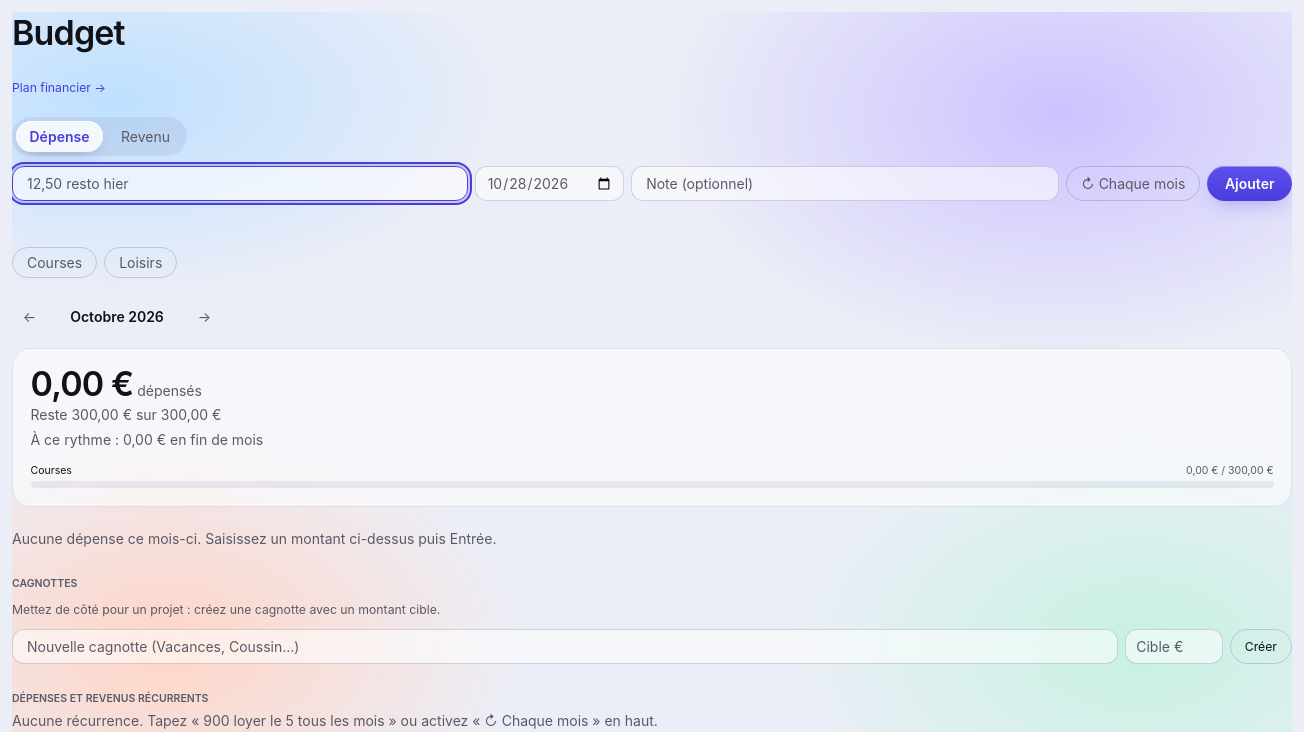
Scenario: BudgetPage › explique un échec dû à une migration manquante (PGRST204) et annule la dépense
expect the button "Courses" is shown: met, box [12, 246, 97, 278]
Type "12,50" into the field named "Montant en euros". click: (240, 184)
box: [12, 166, 468, 201]
Then press Enter
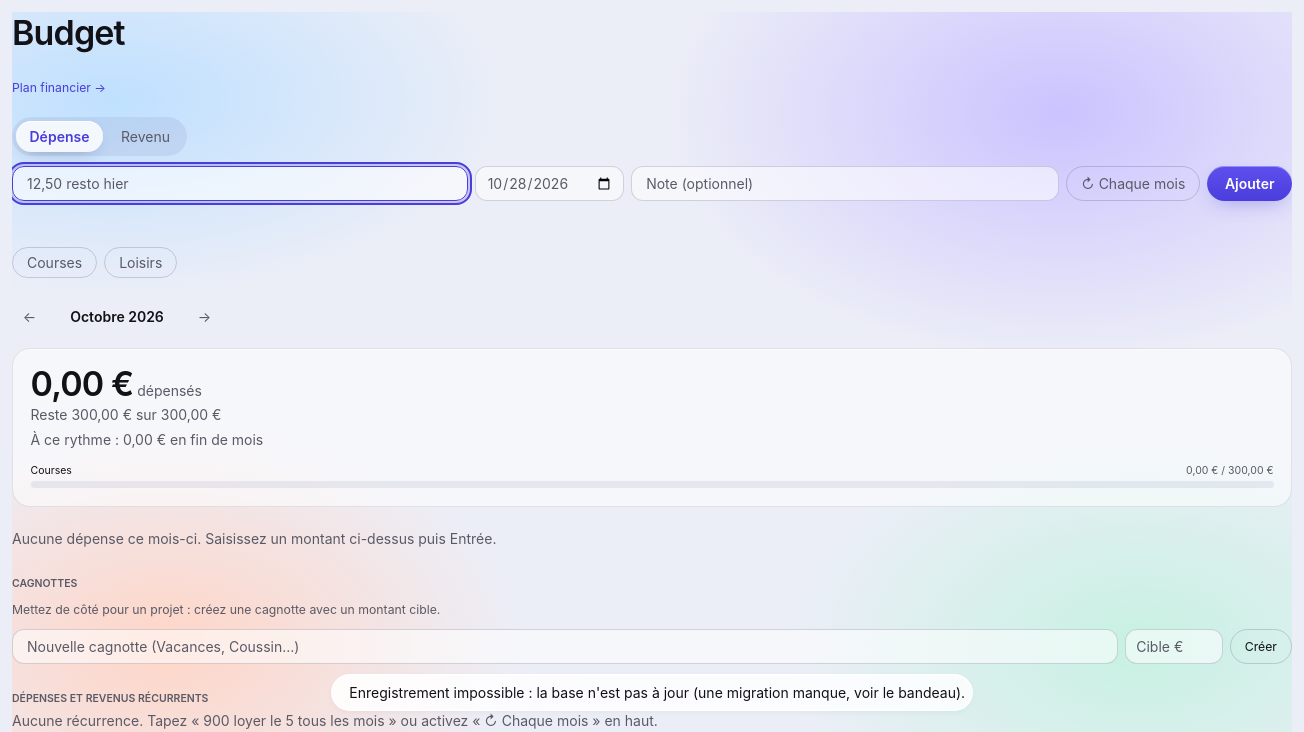
expect the text "Enregistrement impossible : la base n'est pas à jour" is shown: met, box [349, 684, 965, 701]
